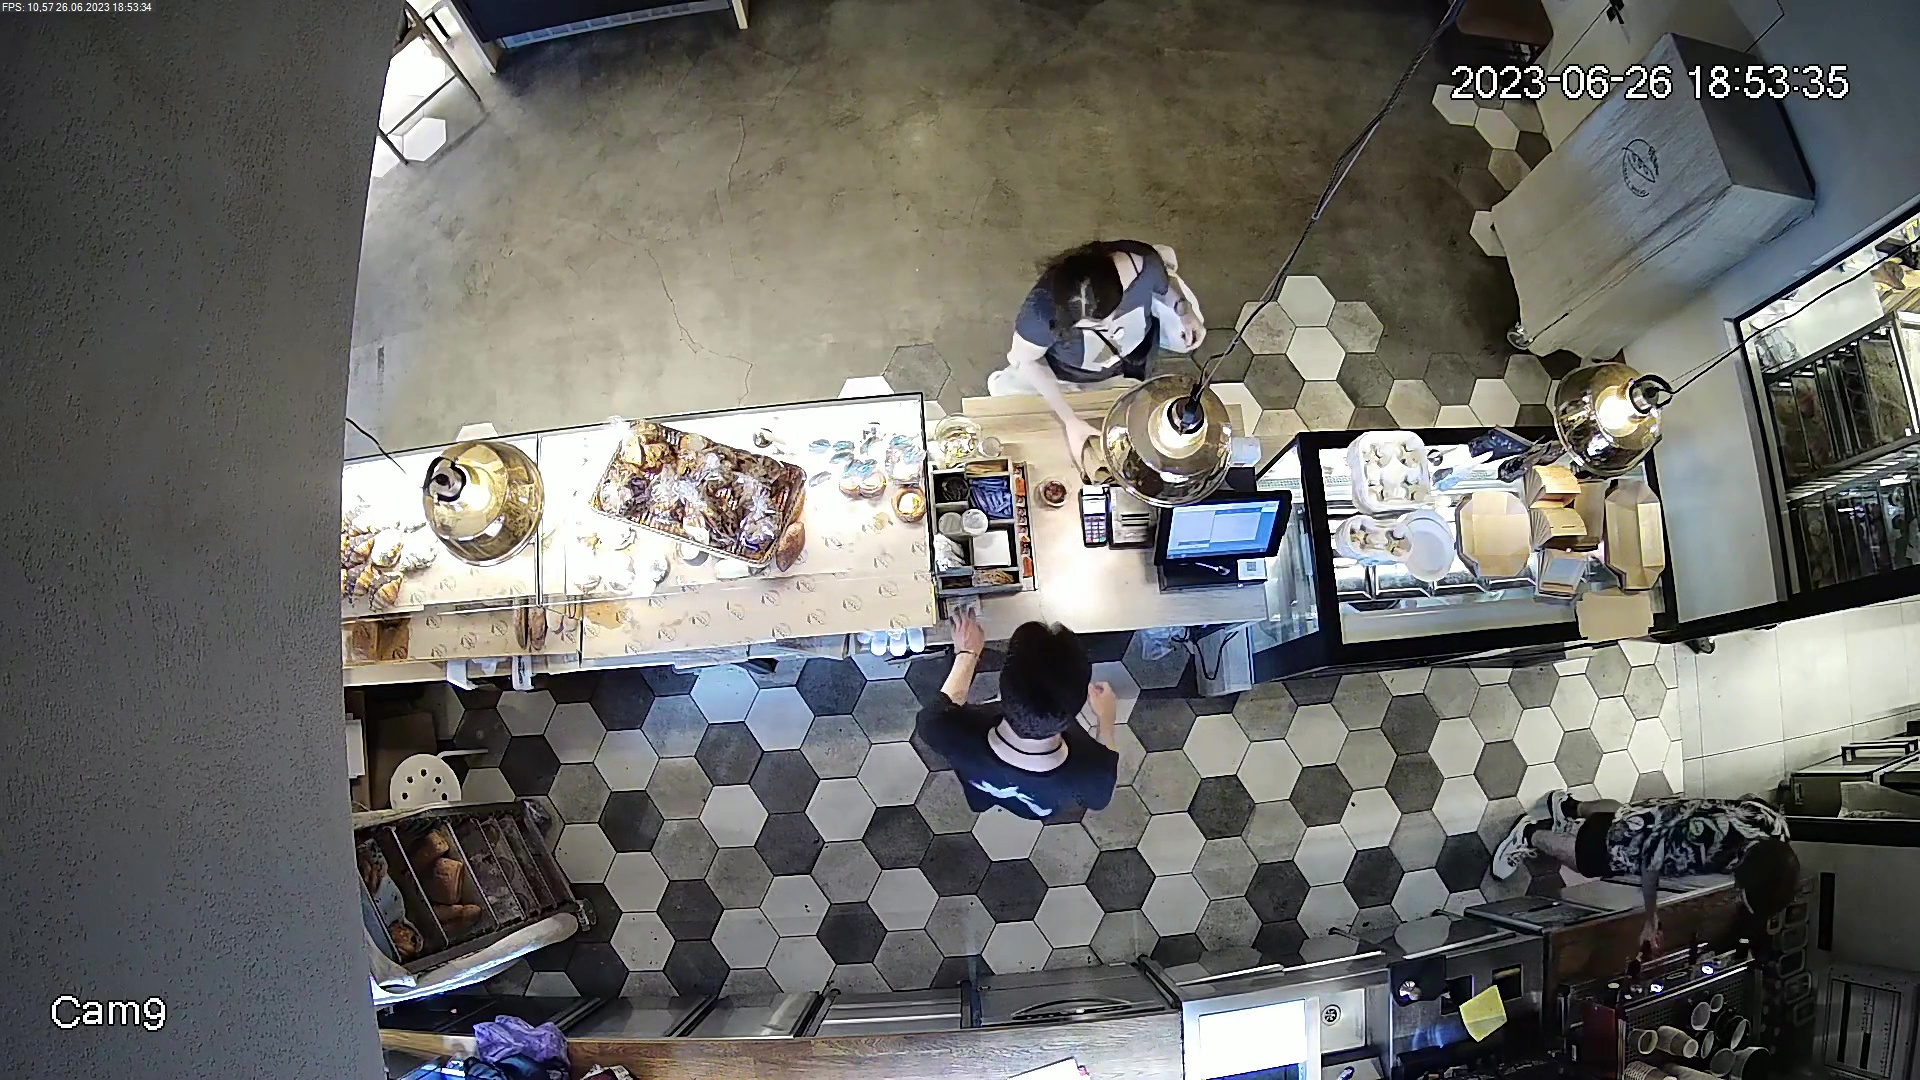coffee: (1031, 472, 1071, 509)
person: (894, 642, 1152, 842), (943, 231, 1213, 389)
